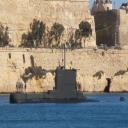submarine: (10, 68, 111, 103)
